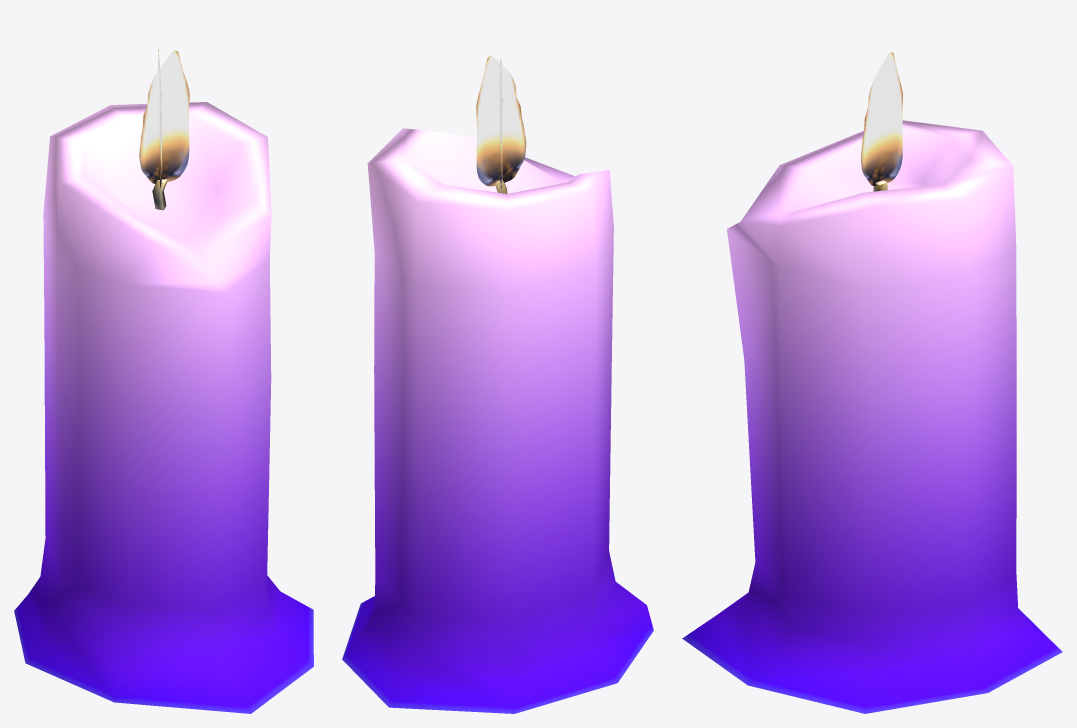
Rendered from CandleShapeB.023.glb.
3 renders of one model, left to right at view 1: azimuth 30°, elevation 25°; view 2: azimuth 150°, elevation 25°; view 3: azimuth 270°, elevation 25°, orthographic.
Visible parts, largest first — view 1: CandleShapeB.023; view 2: CandleShapeB.023; view 3: CandleShapeB.023.
Boxes of the visible parts, x1=… form: CandleShapeB.023: x1=14, y1=49, x2=313, y2=713; CandleShapeB.023: x1=342, y1=56, x2=653, y2=713; CandleShapeB.023: x1=682, y1=52, x2=1062, y2=713.
Size of the model in its own units: 0.0966 by 0.2031 by 0.117.
Materials: 2 (2 with a texture image).
